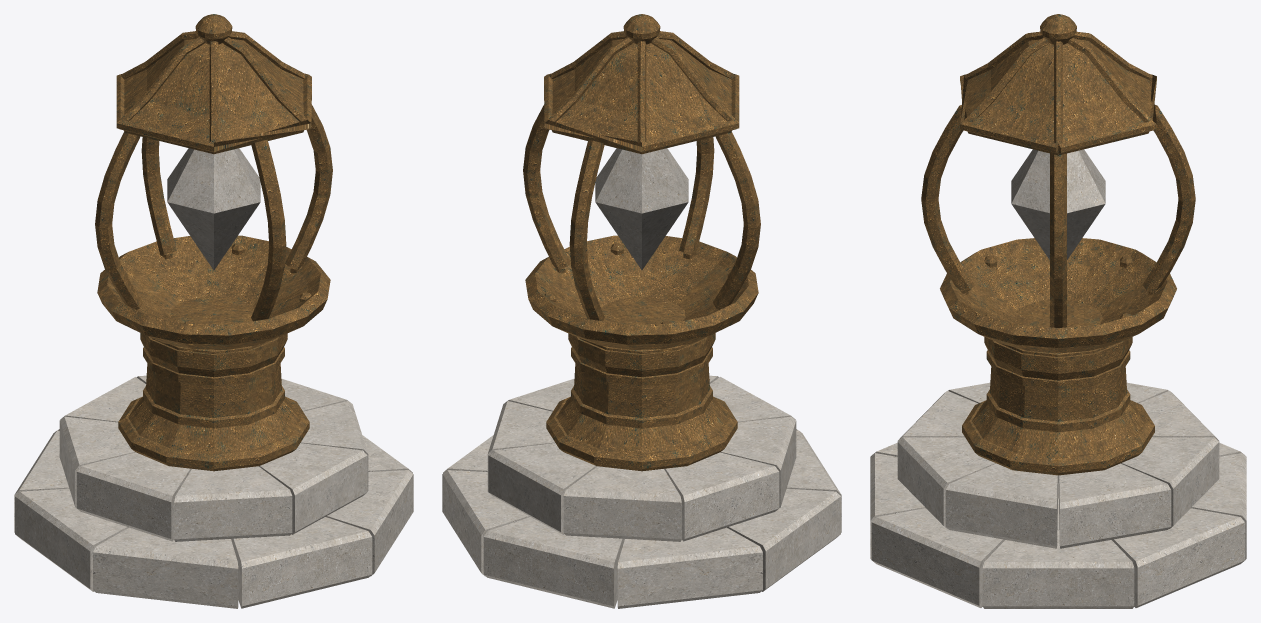
The model's file is moon_lamp.glb.
The picture shows the model from 3 angles, left to right: view 1: azimuth 30°, elevation 25°; view 2: azimuth 150°, elevation 25°; view 3: azimuth 270°, elevation 25°; orthographic projection.
Visible parts, largest first — view 1: MoonLampPlinth, MoonLampBronzework, MoonLampPatinaPanels, MoonLampCore; view 2: MoonLampPlinth, MoonLampBronzework, MoonLampPatinaPanels, MoonLampCore; view 3: MoonLampPlinth, MoonLampBronzework, MoonLampPatinaPanels, MoonLampCore.
Boxes of the visible parts, x1=… form: MoonLampPlinth: x1=14, y1=375, x2=413, y2=608; MoonLampBronzework: x1=95, y1=14, x2=332, y2=471; MoonLampPatinaPanels: x1=124, y1=39, x2=303, y2=453; MoonLampCore: x1=167, y1=148, x2=260, y2=270; MoonLampPlinth: x1=442, y1=375, x2=841, y2=608; MoonLampBronzework: x1=523, y1=14, x2=760, y2=471; MoonLampPatinaPanels: x1=551, y1=39, x2=731, y2=453; MoonLampCore: x1=595, y1=148, x2=688, y2=270; MoonLampPlinth: x1=870, y1=382, x2=1246, y2=608; MoonLampBronzework: x1=921, y1=14, x2=1195, y2=475; MoonLampPatinaPanels: x1=964, y1=39, x2=1152, y2=457; MoonLampCore: x1=1011, y1=149, x2=1105, y2=259.
Size of the model in its own units: 1.52 by 2.3 by 1.52.
Materials: 4 (4 with a texture image).
